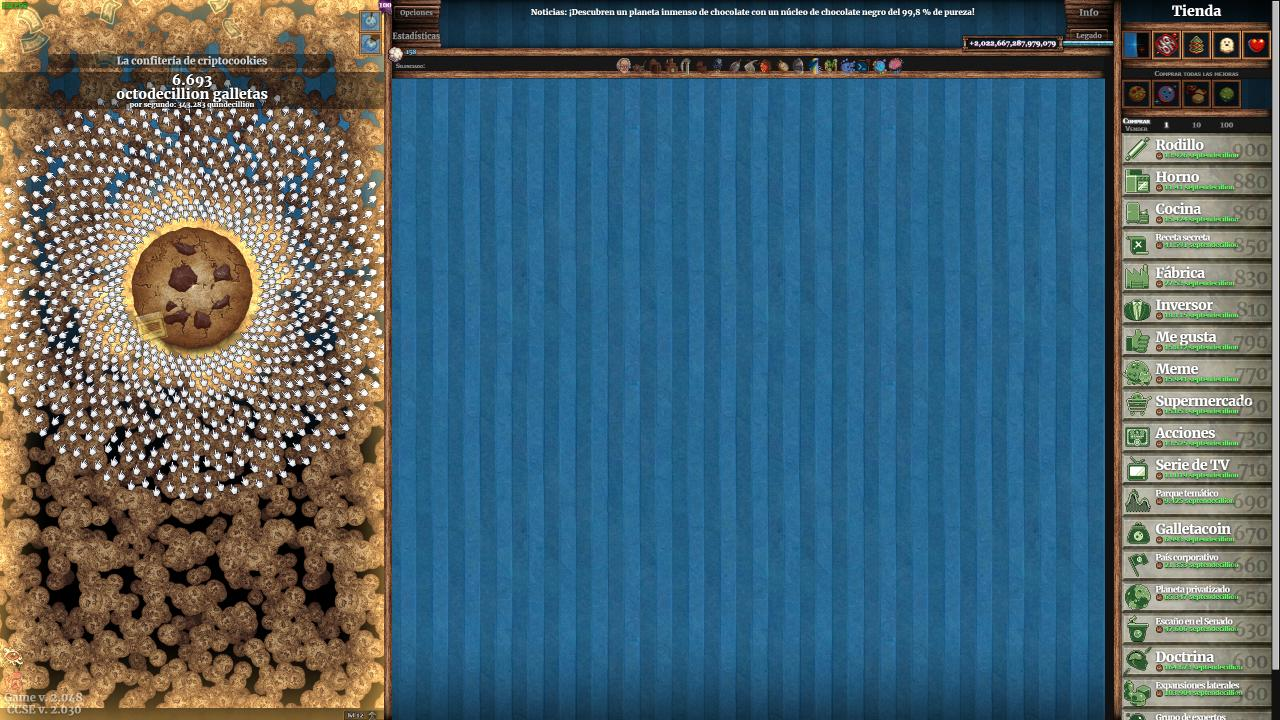GoldenCartridge: (135, 308, 170, 344)
